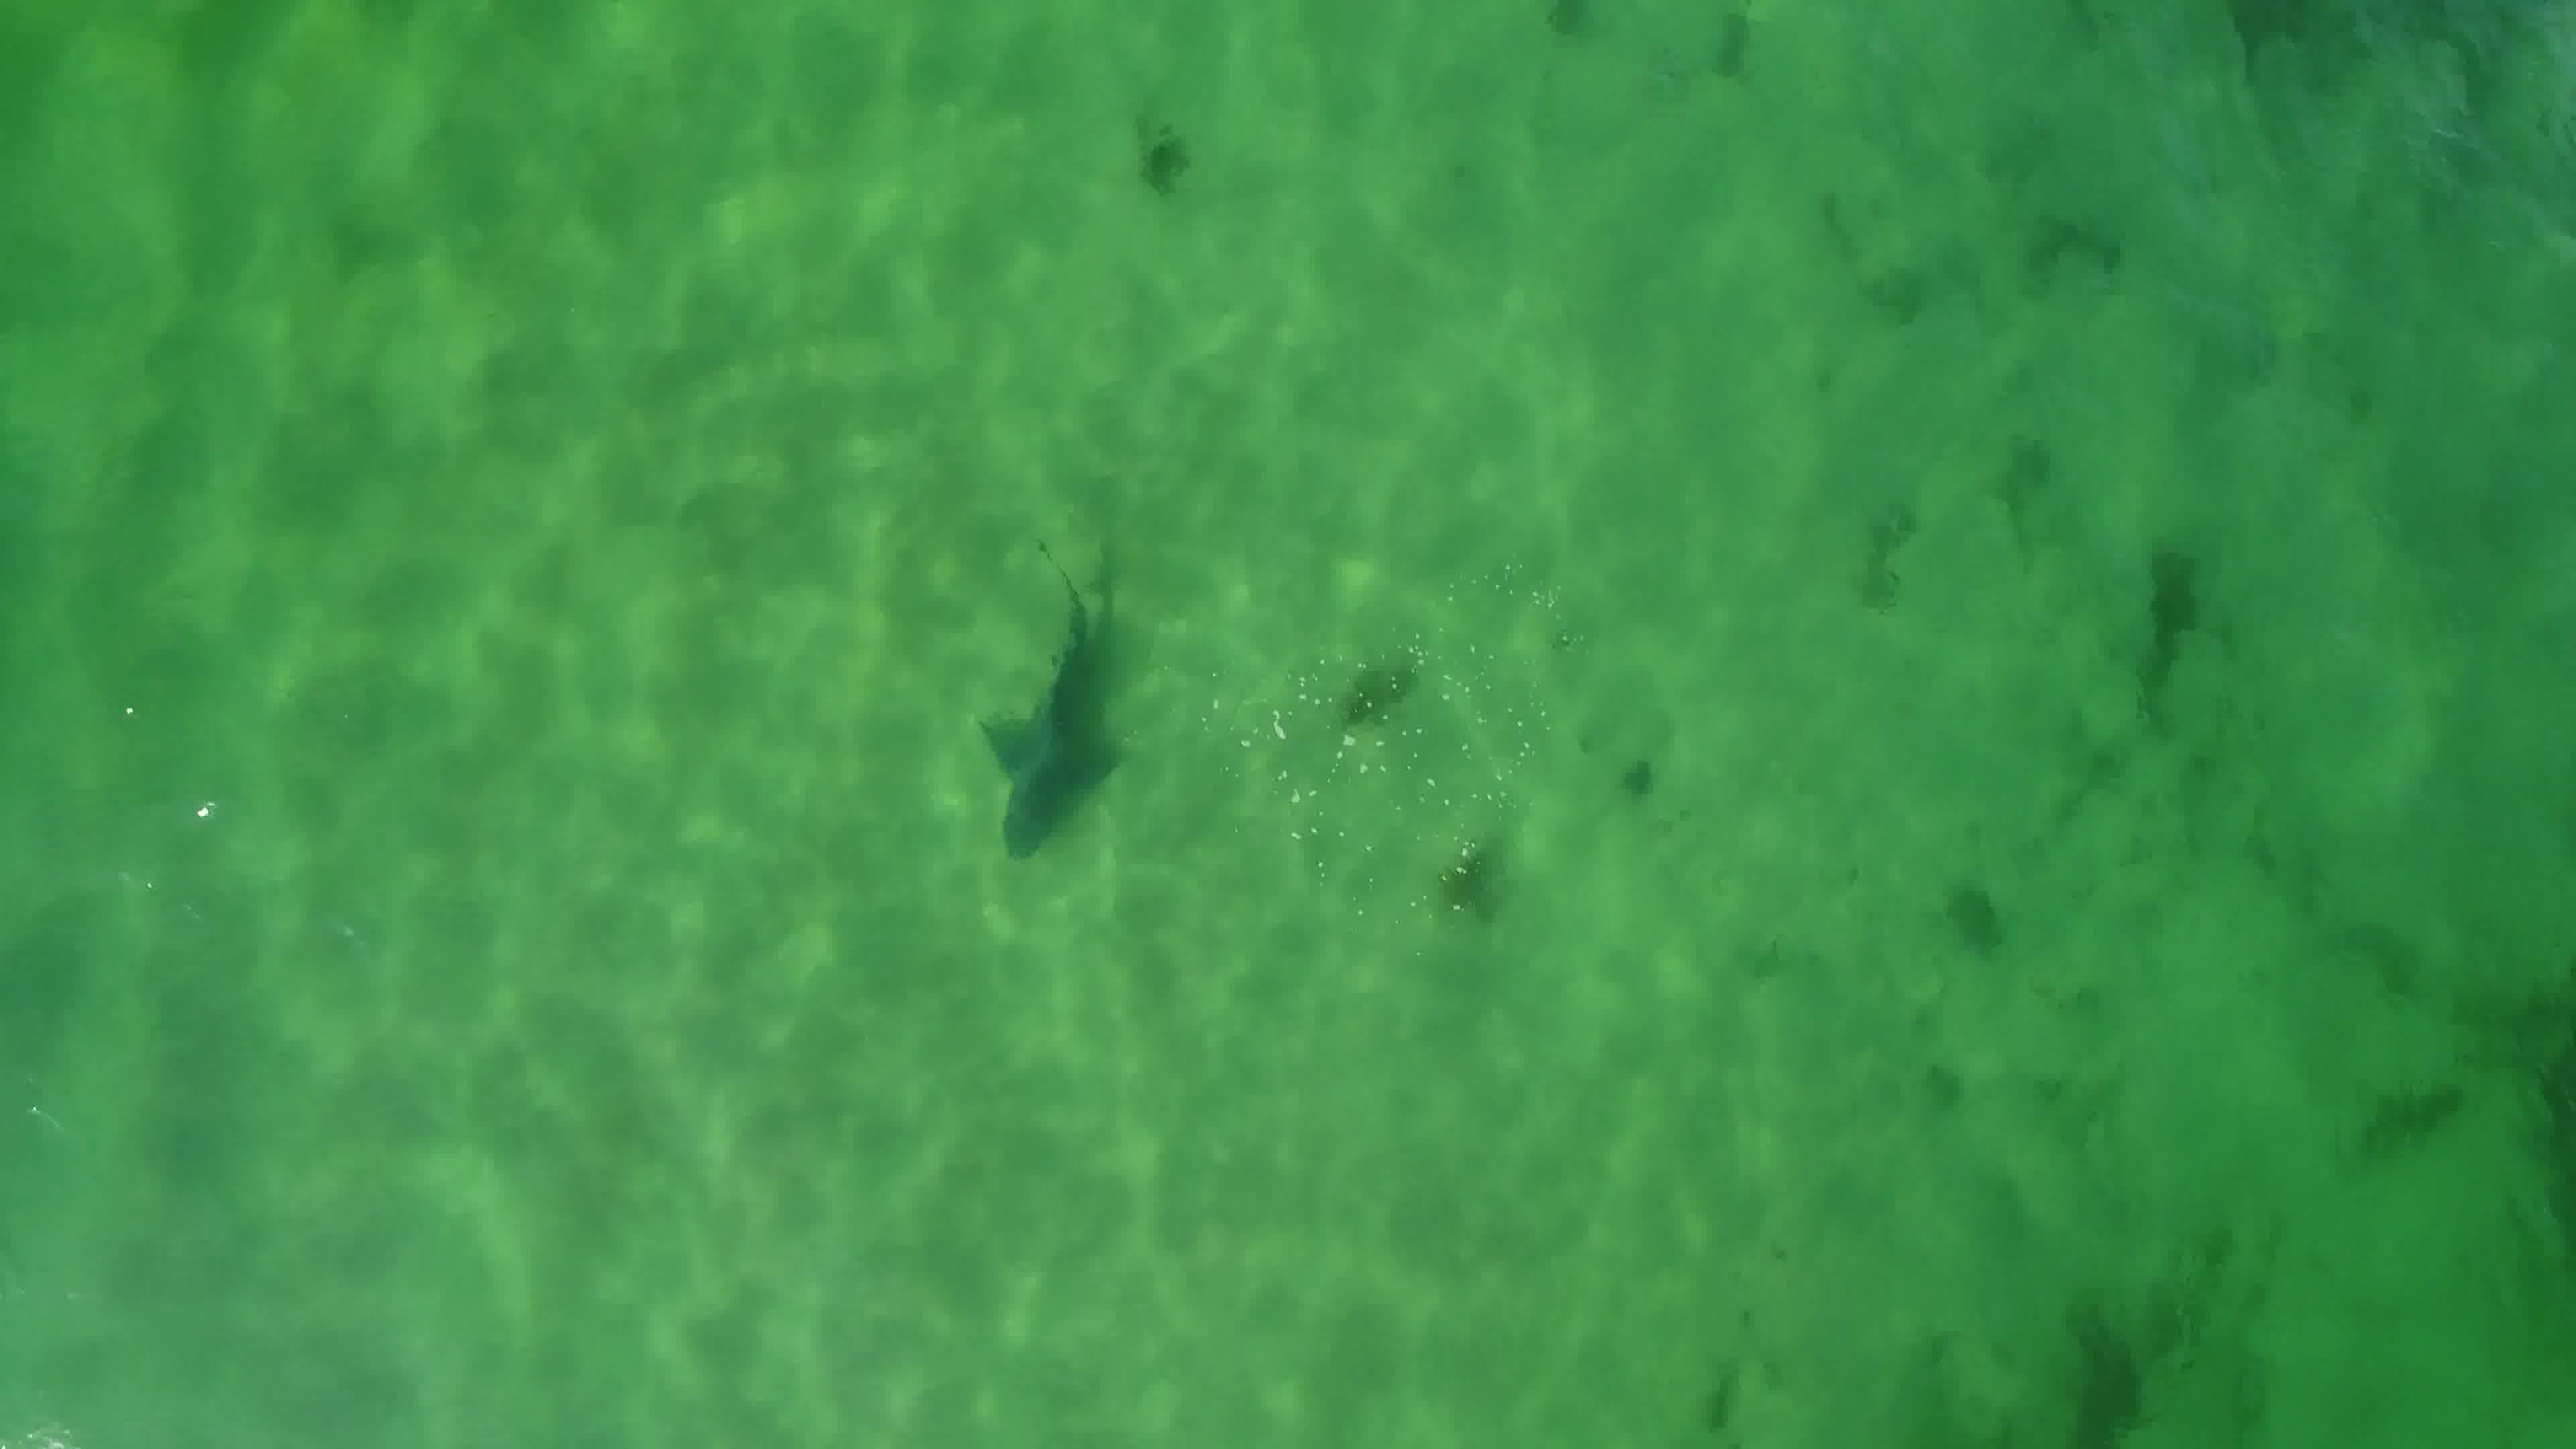shark: (948, 541, 1145, 865)
